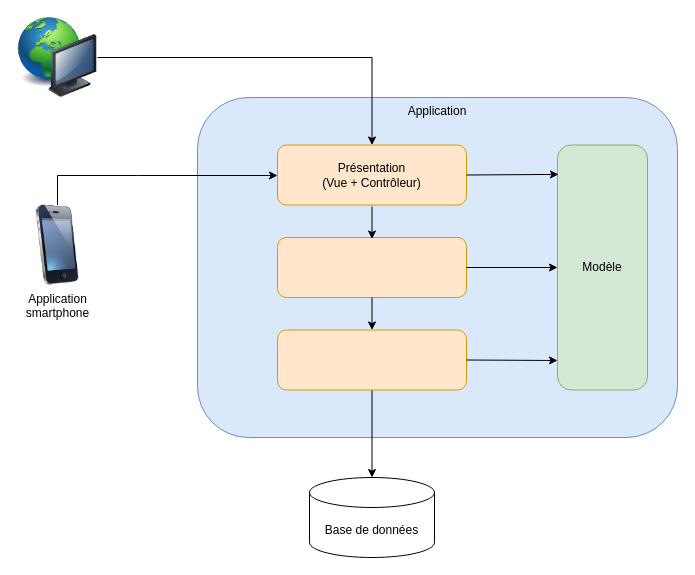
The diagram is 695 pixels wide and 575 high, and some of its shapes have lost their labels. The shapes that lost their labels are listed below. From the top down, each one's centre as x and y in pixels, then its label:
At (57,57): "Navigateur".
At (371,267): "Services métiers".
At (371,359): "Persistence (DAO)".
